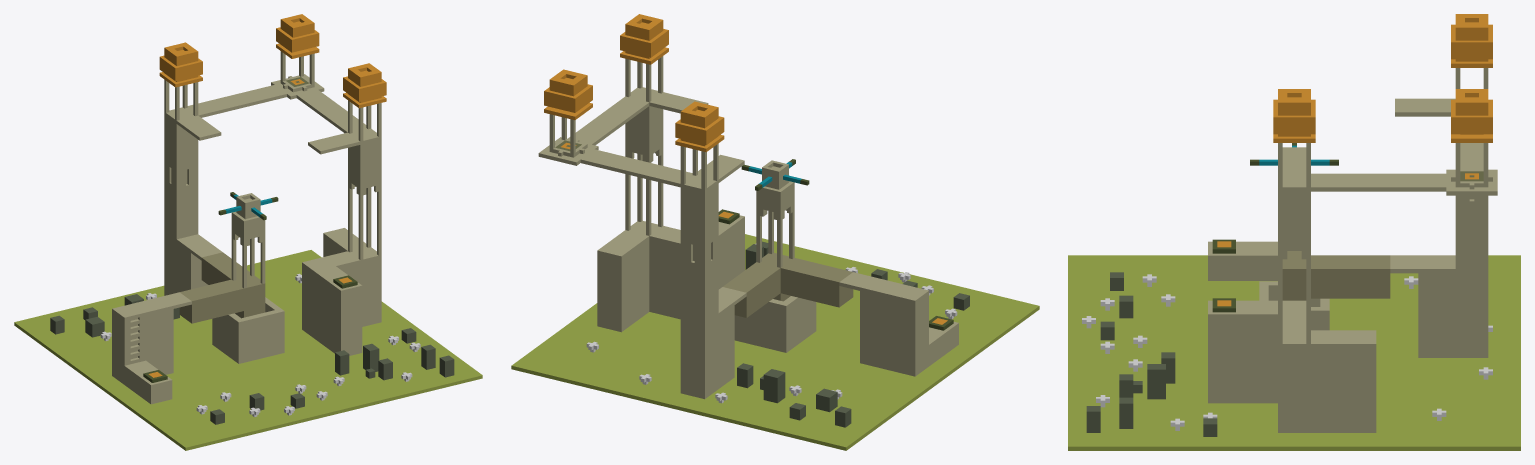
File: MonuValleyModel.fbx
The picture shows the model from 3 angles, left to right: view 1: azimuth 30°, elevation 25°; view 2: azimuth 150°, elevation 25°; view 3: azimuth 270°, elevation 25°; orthographic projection. The views are drawn at different scales.
Parts seen in each view (by area): view 1: monu9.001; view 2: monu9.001; view 3: monu9.001.
Boxes of the visible parts, x1=… form: monu9.001: x1=14, y1=14, x2=482, y2=450; monu9.001: x1=511, y1=14, x2=1039, y2=450; monu9.001: x1=1068, y1=14, x2=1520, y2=450.
Bounding box in the file's own units: 9700 × 7900 × 9700.
